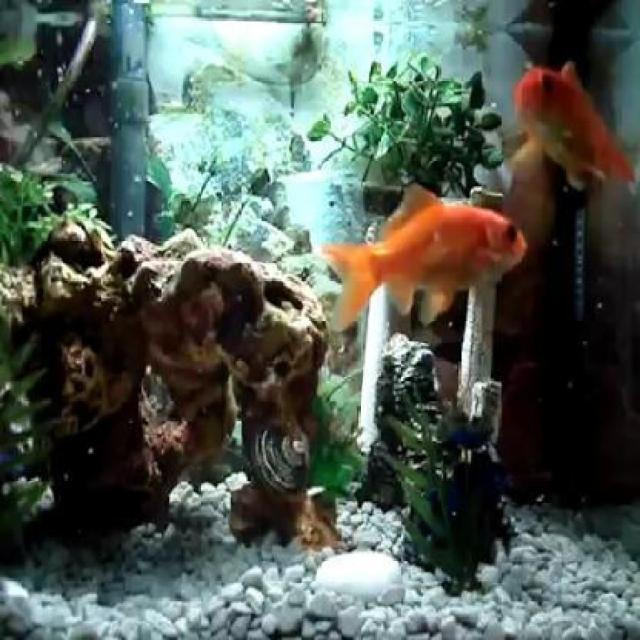GoldFish: (320, 183, 529, 334), (502, 46, 636, 191)
